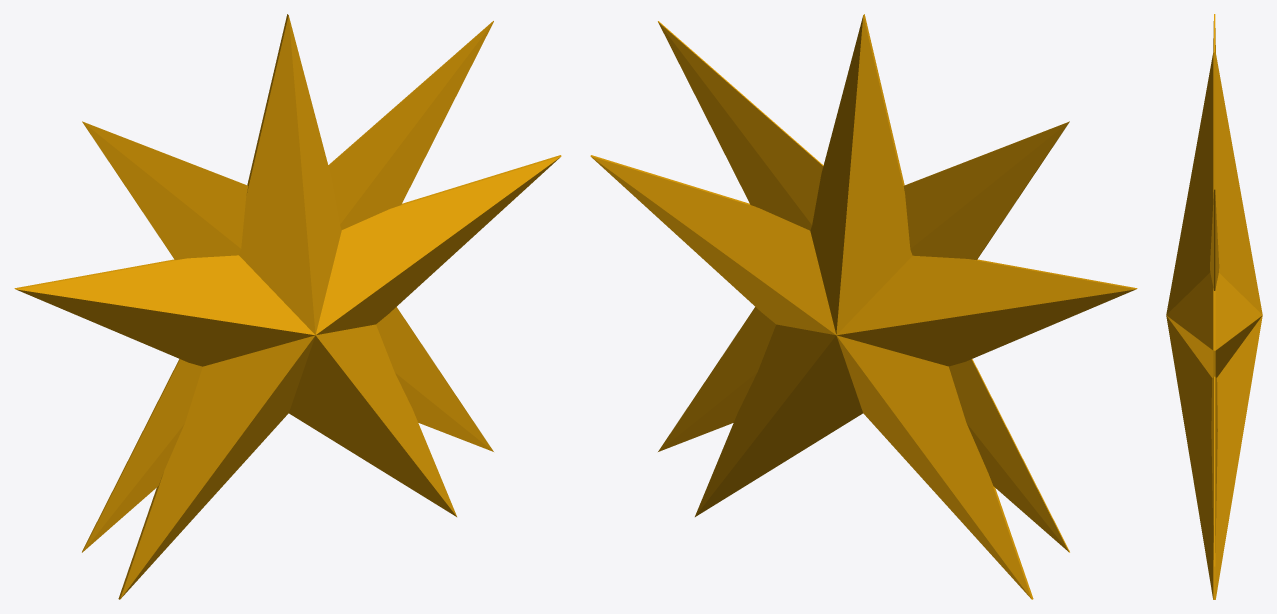
The model's file is Prefab_Xmas_Tree_Topper_B.glb.
3 views of the same model, side by side, from view 1: azimuth 30°, elevation 25°; view 2: azimuth 150°, elevation 25°; view 3: azimuth 270°, elevation 25° (orthographic). The views are drawn at different scales.
Parts seen in each view (by area): view 1: TreeTopper_Star_B; view 2: TreeTopper_Star_B; view 3: TreeTopper_Star_B.
Part boxes in pixels (x1,y1,x2,y2): TreeTopper_Star_B: (14, 14, 561, 599); TreeTopper_Star_B: (590, 14, 1137, 599); TreeTopper_Star_B: (1166, 14, 1262, 599).
Size of the model in its own units: 0.4356 by 0.4143 by 0.0762.
